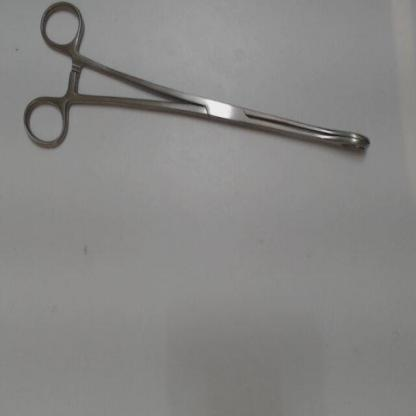Sponge Forceps: (19, 1, 379, 160)
